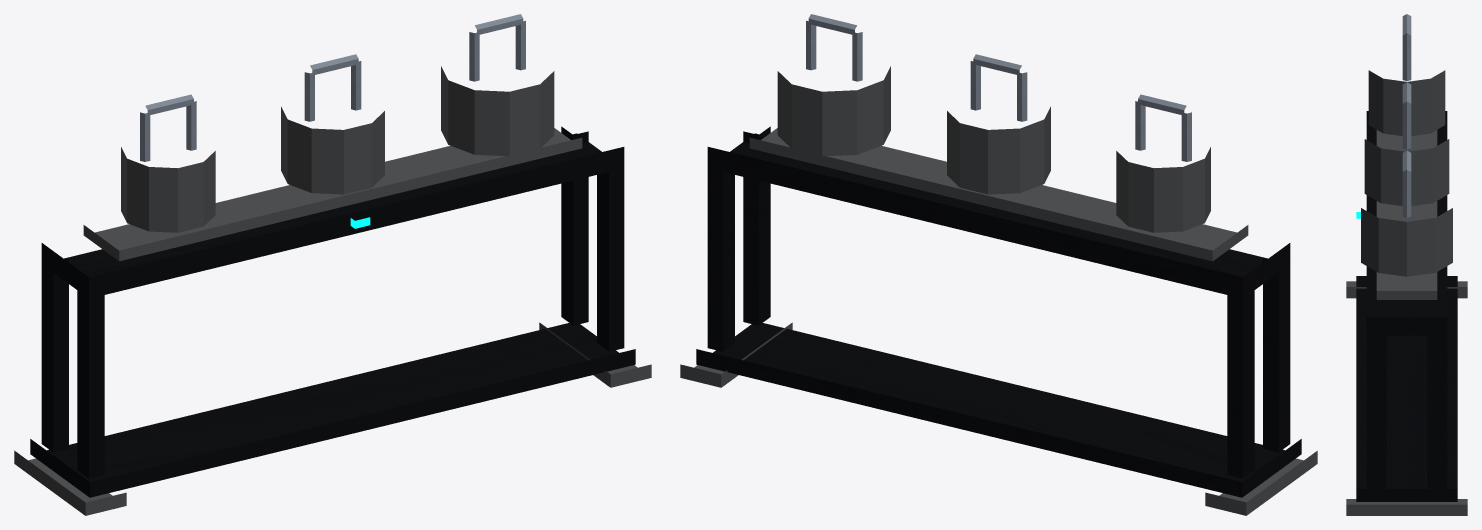
The model's file is tt_gym_kb_rack.glb.
The picture shows the model from 3 angles, left to right: view 1: azimuth 30°, elevation 25°; view 2: azimuth 150°, elevation 25°; view 3: azimuth 270°, elevation 25°; orthographic projection. The views are drawn at different scales.
Visible parts, largest first — view 1: Rack_Frame, Bells, Cradle_Pads, Handles_Hardware, Feet; view 2: Rack_Frame, Bells, Cradle_Pads, Handles_Hardware, Feet; view 3: Rack_Frame, Bells, Cradle_Pads, Feet, Handles_Hardware.
Boxes of the visible parts, <box> form: Rack_Frame: <box>30,126,635,497</box>; Bells: <box>121,66,554,232</box>; Cradle_Pads: <box>83,128,582,261</box>; Handles_Hardware: <box>140,14,525,161</box>; Feet: <box>14,322,651,515</box>; Rack_Frame: <box>696,126,1301,497</box>; Bells: <box>777,66,1210,232</box>; Cradle_Pads: <box>749,128,1248,261</box>; Handles_Hardware: <box>806,14,1191,161</box>; Feet: <box>680,322,1317,515</box>; Rack_Frame: <box>1356,111,1457,501</box>; Bells: <box>1361,70,1452,276</box>; Cradle_Pads: <box>1376,130,1437,299</box>; Feet: <box>1346,281,1467,515</box>; Handles_Hardware: <box>1402,14,1411,217</box>.
Size of what is drawn, in the model's own units: 1.1 by 0.67 by 0.24.
4 materials, 2 textured.
